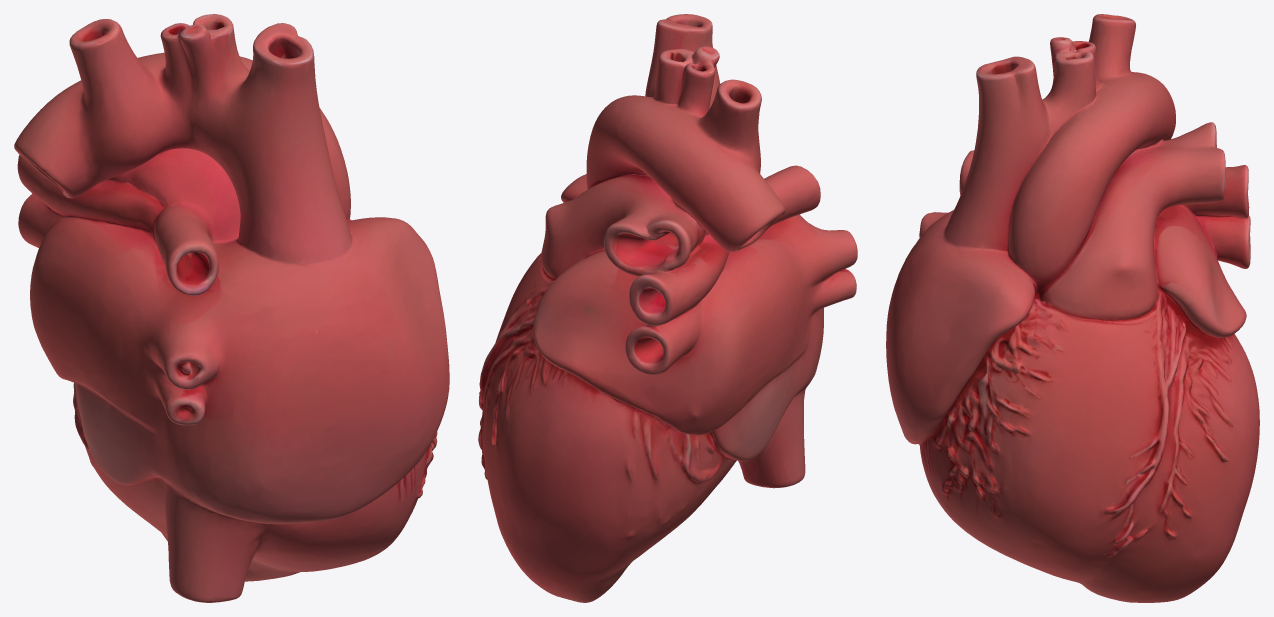
The model's file is heart-0000.glb.
The picture shows the model from 3 angles, left to right: view 1: azimuth 30°, elevation 25°; view 2: azimuth 150°, elevation 25°; view 3: azimuth 270°, elevation 25°; orthographic projection. The views are drawn at different scales.
Visible parts, largest first — view 1: tripo_node_86ead98d-bb54-476f-8d57-71c9282f64b8; view 2: tripo_node_86ead98d-bb54-476f-8d57-71c9282f64b8; view 3: tripo_node_86ead98d-bb54-476f-8d57-71c9282f64b8.
Part boxes in pixels (box(x1,y1,x2,y2)): tripo_node_86ead98d-bb54-476f-8d57-71c9282f64b8: box(14, 14, 449, 602); tripo_node_86ead98d-bb54-476f-8d57-71c9282f64b8: box(478, 14, 857, 602); tripo_node_86ead98d-bb54-476f-8d57-71c9282f64b8: box(886, 14, 1259, 602).
Size of the model in its own units: 0.5701 by 0.9493 by 0.6181.
Materials: 1 (1 with a texture image).
